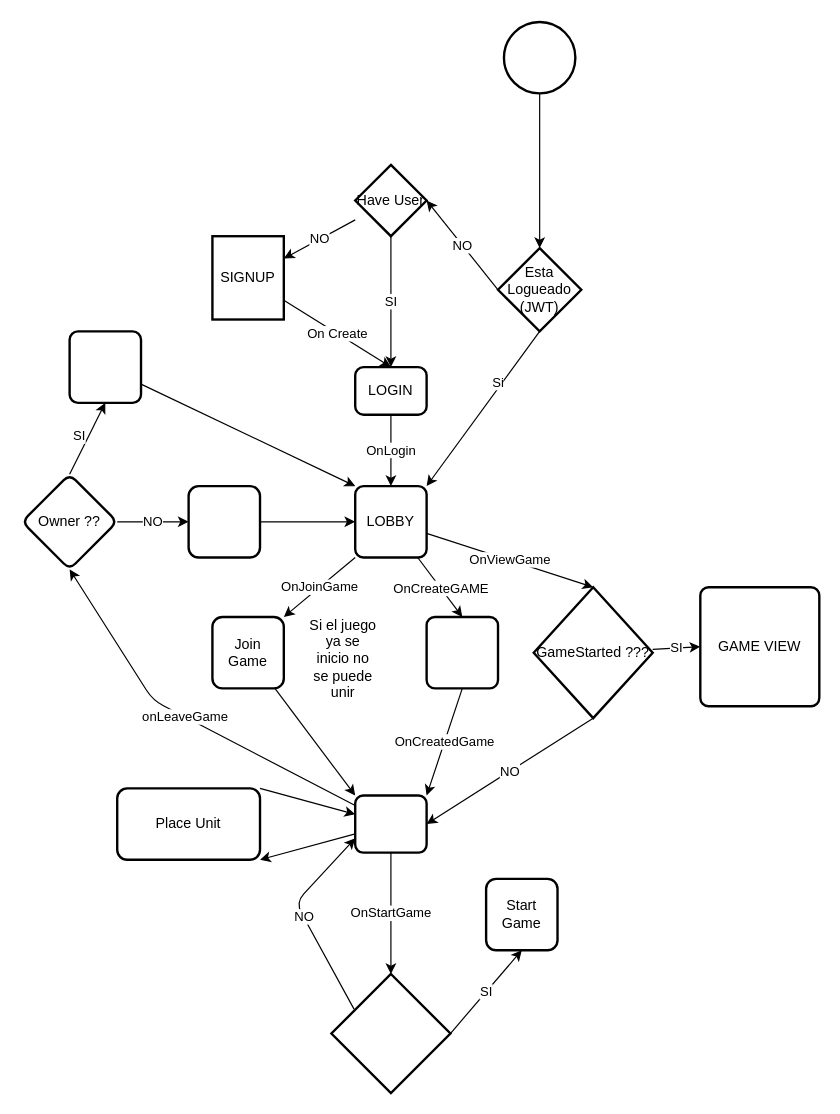
This 840x1114 diagram has some shape labels left out. The shapes that lost their labels are listed below. From the top down, each one's centre as x and y in pixels, then its label:
the point at 539,57: Start
the point at 105,366: Destroy GAME
the point at 224,521: Leave GAME
the point at 462,652: Create GAME
the point at 390,823: View GAME
the point at 390,1033: Owner ?
